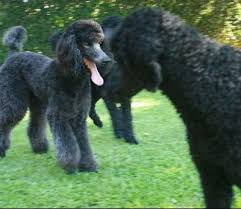Poodle: (1, 15, 109, 179)
